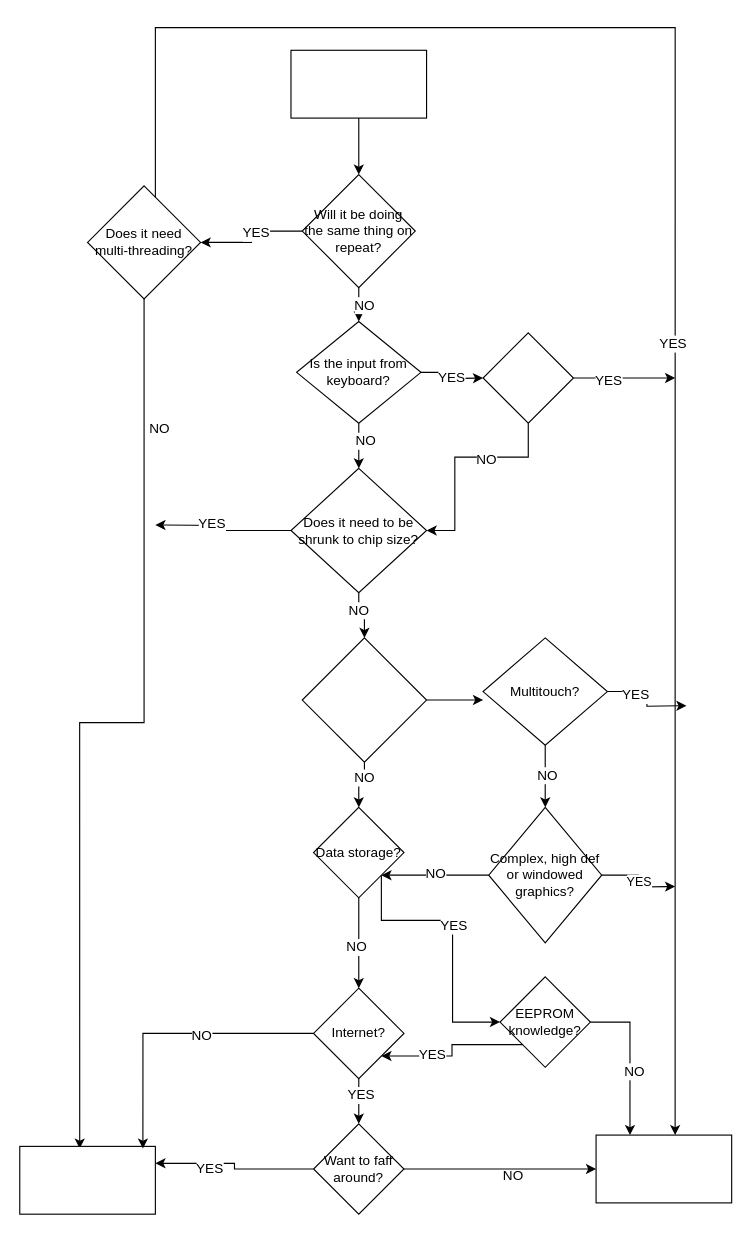
Image size: 751x1234. Some labels were removed from this diagram. Each missing label, with the box of its shape:
Arduino: (19, 1145, 155, 1214)
Does it have to be?: (482, 332, 573, 423)
Does it need a screen?: (301, 637, 427, 762)
Raspberry Pi: (595, 1134, 732, 1203)
Start: (290, 49, 427, 118)
